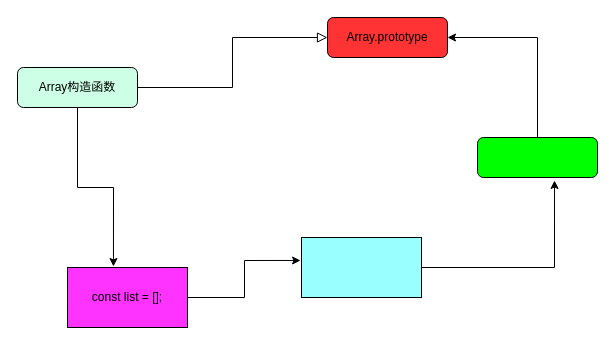
Some shapes in this 615 by 345 pixel diagram are drawn without their labels. Here are the shapes that lost their labels. From the top down, the centre of each, then its label:
At (537,157): "拦截器 伪造的原型".
At (361,267): "_proto_".
